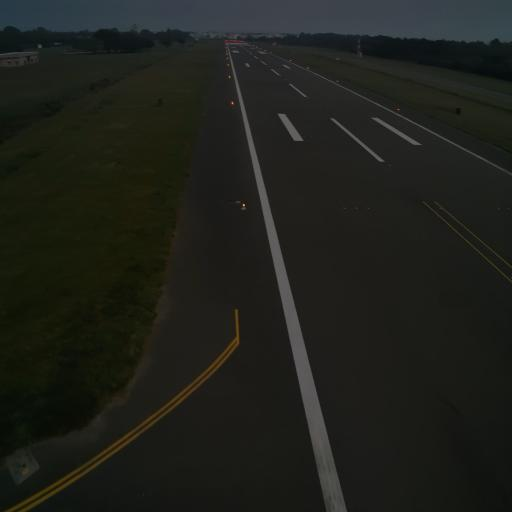off: (342, 203, 347, 212), (496, 204, 501, 212), (354, 205, 359, 212), (366, 204, 370, 212), (438, 204, 442, 212), (506, 205, 510, 212), (388, 162, 392, 168), (395, 137, 398, 143), (303, 134, 306, 139), (401, 138, 404, 142), (310, 135, 313, 139)
on: (239, 200, 247, 214), (229, 99, 234, 108), (397, 106, 400, 112)
